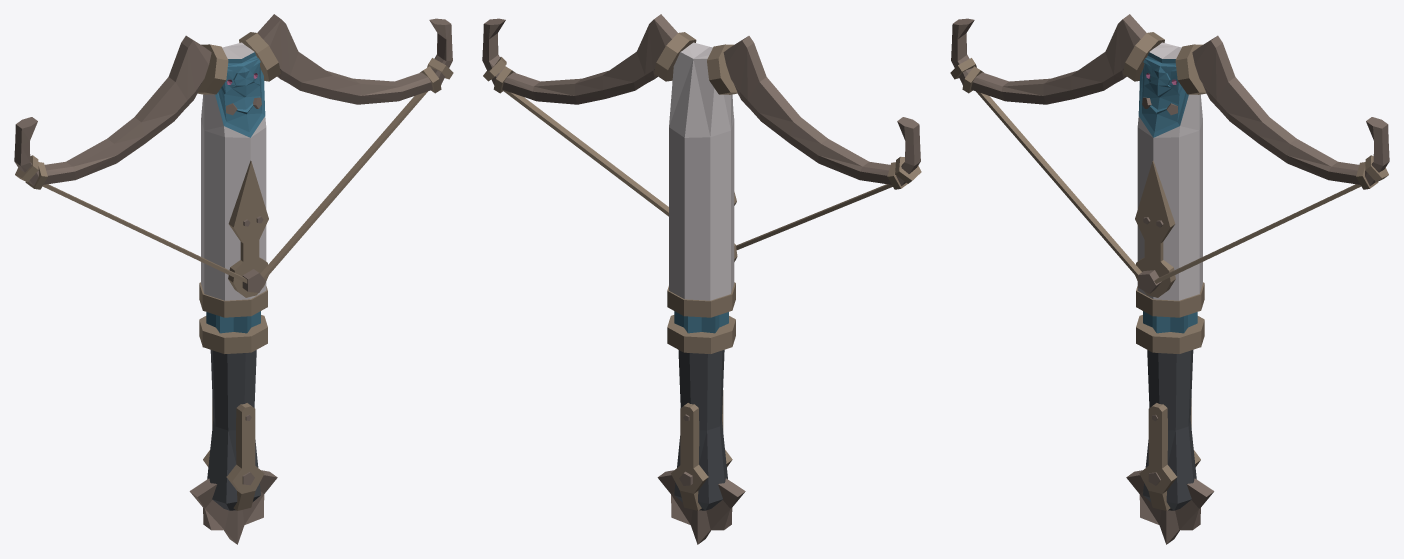
The model's file is _crossbow_20.glb.
3 renders of one model, left to right at view 1: azimuth 30°, elevation 25°; view 2: azimuth 150°, elevation 25°; view 3: azimuth 330°, elevation 25°, orthographic.
Parts seen in each view (by area): view 1: crossbow_20; view 2: crossbow_20; view 3: crossbow_20.
Part boxes in pixels (box(x1,y1,x2,y2)): crossbow_20: box(14, 14, 453, 544); crossbow_20: box(482, 14, 921, 544); crossbow_20: box(950, 14, 1389, 544).
Size of the model in its own units: 19500 by 22189 by 3218.
Materials: 1 (1 with a texture image).
